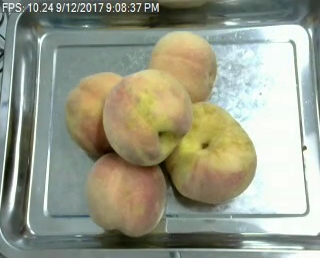Peach: (164, 103, 256, 205), (100, 73, 190, 167), (86, 153, 168, 237), (144, 29, 217, 114), (67, 71, 119, 155)
